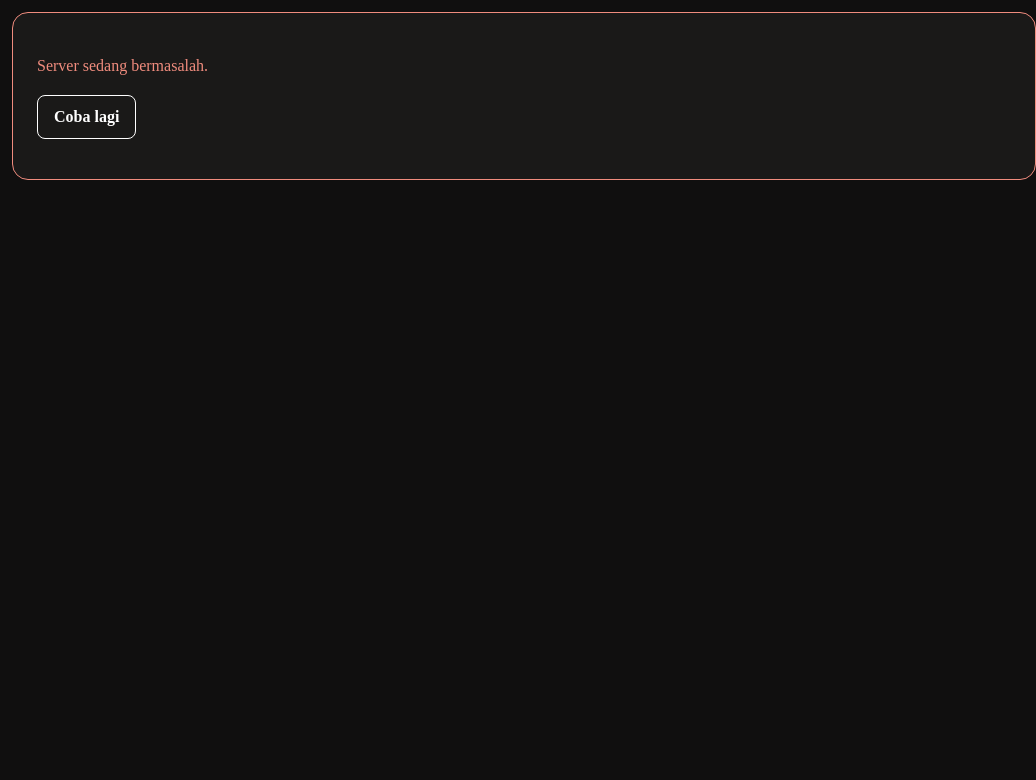
Scenario: CampaignDetailPanel: the public screen a UMKM decides from › shows an error state with a working retry button
This screenshot has width=1036, height=780.
Check: the message shows "Server sedang bermasalah.", box x1=37 y1=57 x2=208 y2=74
Click the button "Coba lagi": (87, 117) x1=37 y1=95 x2=136 y2=139
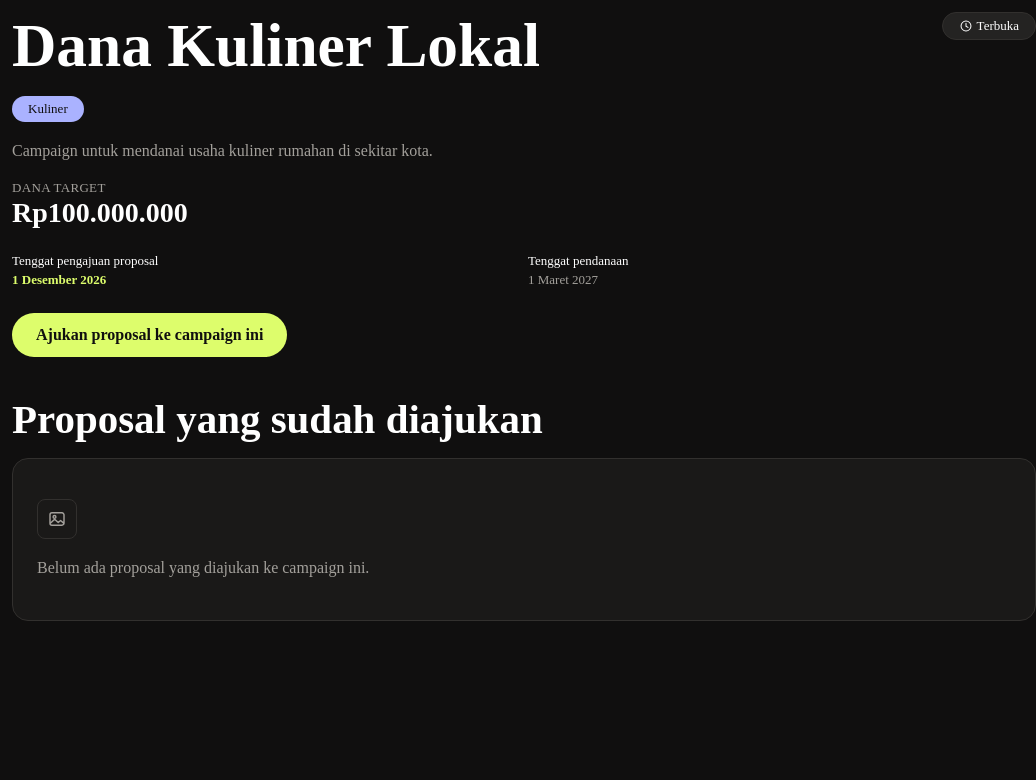
Check: the heading "Dana Kuliner Lokal" is shown, box x1=12 y1=12 x2=540 y2=80
